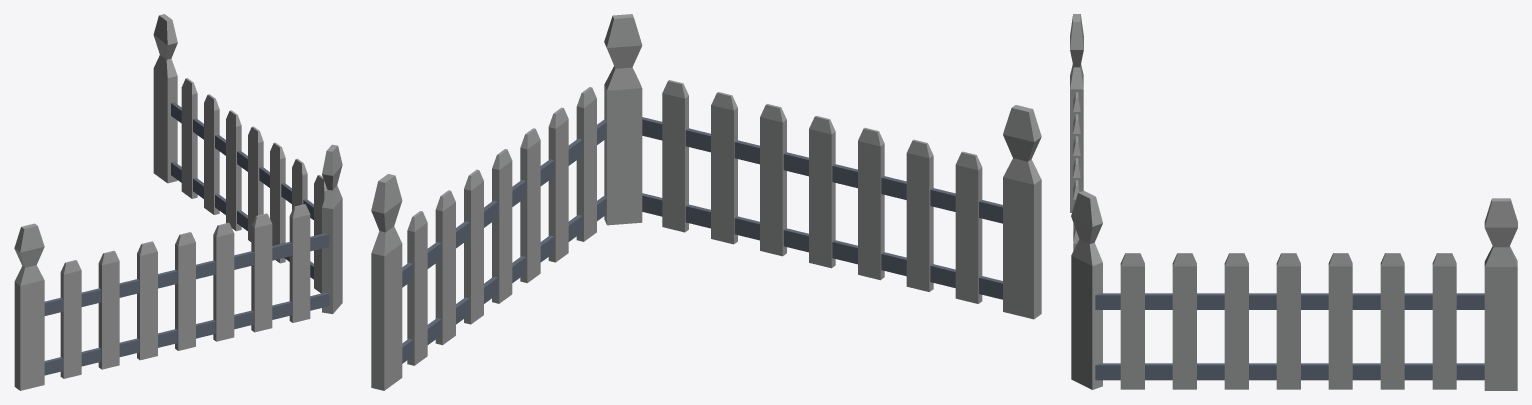
Rendered from Fence 2 Fractured.fbx.
3 renders of one model, left to right at view 1: azimuth 30°, elevation 25°; view 2: azimuth 150°, elevation 25°; view 3: azimuth 270°, elevation 25°, orthographic. The views are drawn at different scales.
Parts seen in each view (by area): view 1: Fence_02_90*; view 2: Fence_02_90*; view 3: Fence_02_90*.
Part boxes in pixels (<box>): Fence_02_90*: <box>14,14,342,390</box>; Fence_02_90*: <box>371,14,1041,390</box>; Fence_02_90*: <box>1070,14,1517,390</box>.
Size of the model in its own units: 176 by 80.61 by 174.
